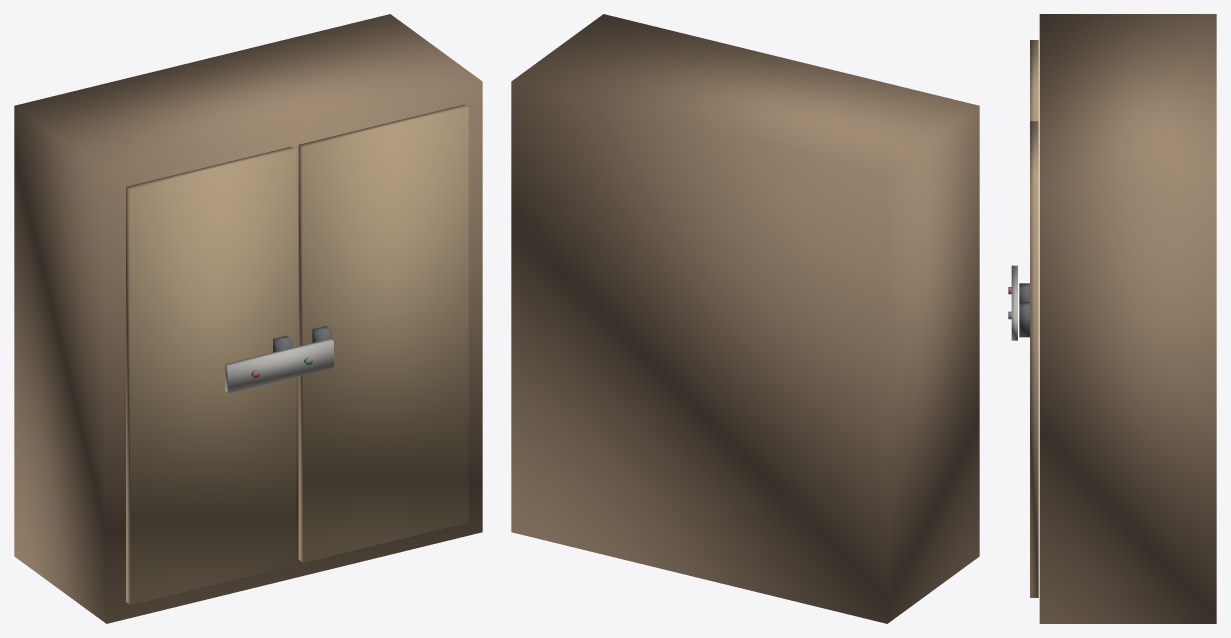
The model's file is tv_stand__wide.glb.
3 renders of one model, left to right at view 1: azimuth 30°, elevation 25°; view 2: azimuth 150°, elevation 25°; view 3: azimuth 270°, elevation 25°, orthographic. The views are drawn at different scales.
Parts seen in each view (by area): view 1: world; view 2: world; view 3: world.
Part boxes in pixels (box(x1,y1,x2,y2)): world: box(14, 14, 482, 623); world: box(511, 14, 979, 623); world: box(1008, 14, 1216, 623).
Bounding box in the file's own units: 1.18 × 1.35 × 0.5885.
